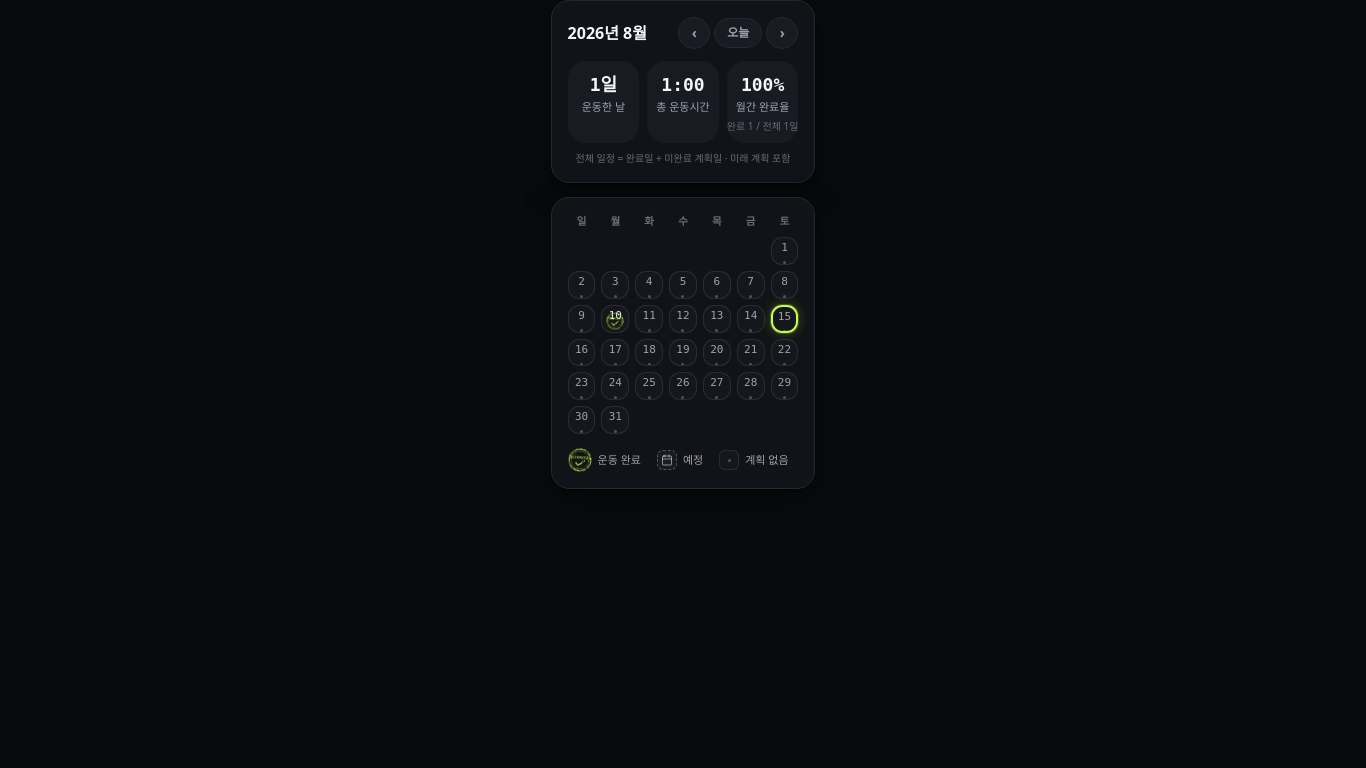
Test case: CalendarView — 지난 기록 상세 (2026-08-04) › 세션 줄을 누르면 그 운동의 세트가 펼쳐진다
Expected: the heading "2026년 8월" is shown, [568,21,647,45]
What coordinates should you click on to do the following:
click the button with aria-label "8월 10일,"
I would click on:
 (615, 319)
Its box is [601,305,629,333].
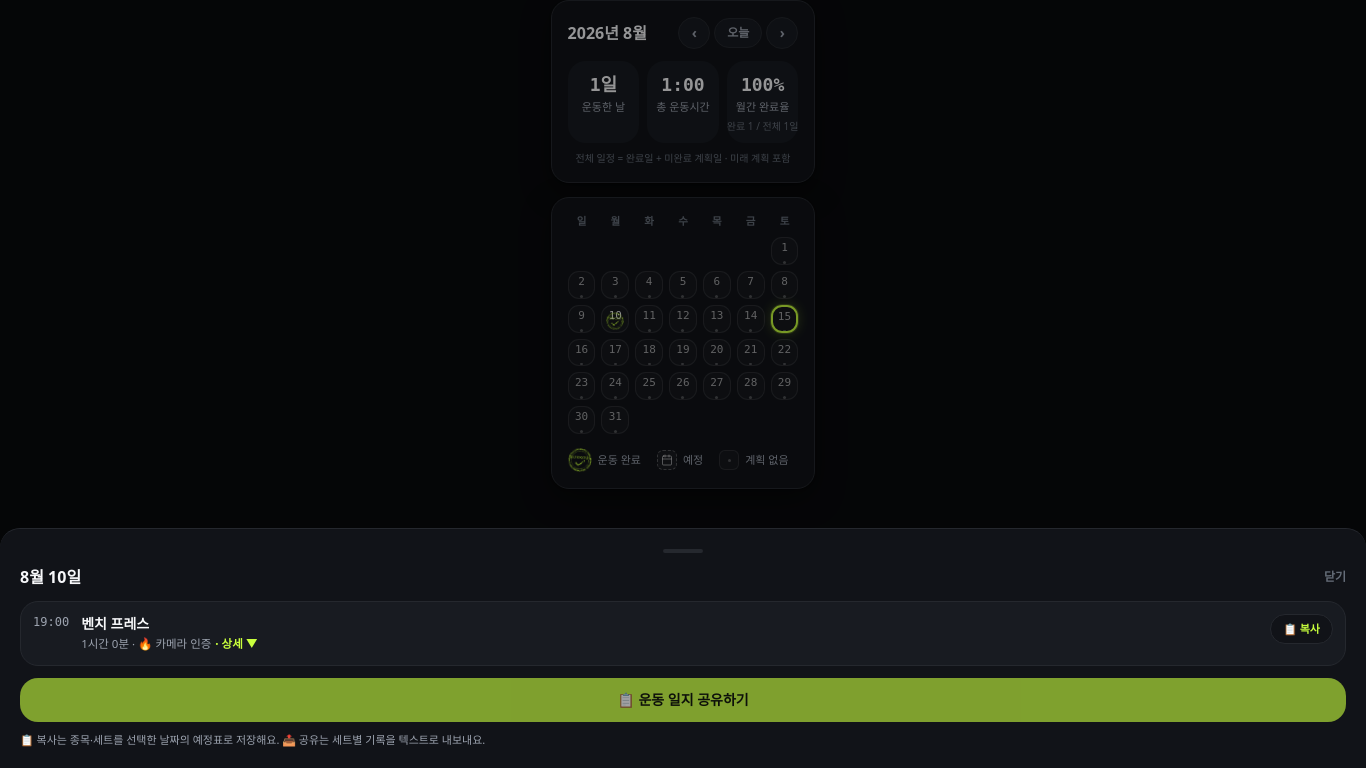
What coordinates should you click on to do the following:
click the button with aria-label "운동 상세"
I would click on:
 (115, 624)
Its box is [81,614,1258,653].
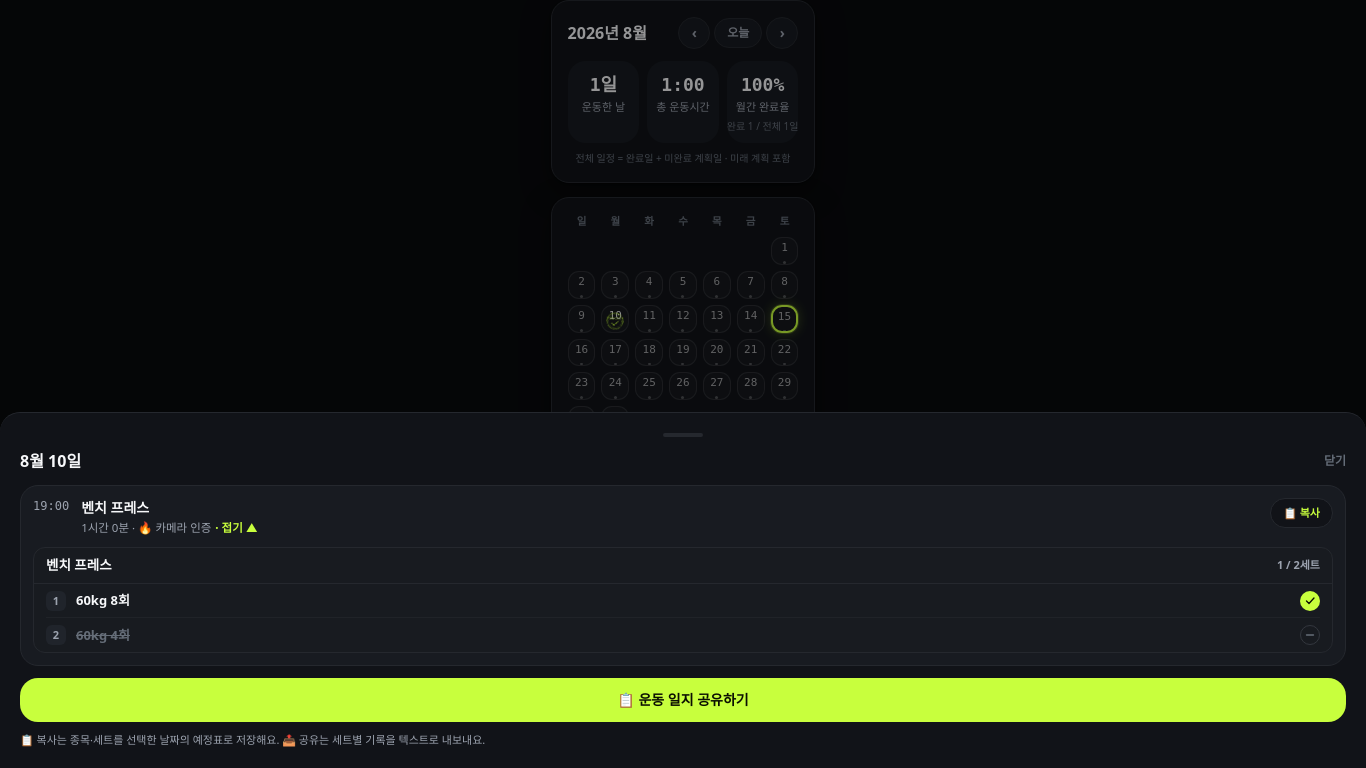
Expected: the text "60kg 8회" is shown, [76,591,130,609]
Expected: the text "60kg 4회" is shown, [76,626,130,644]
